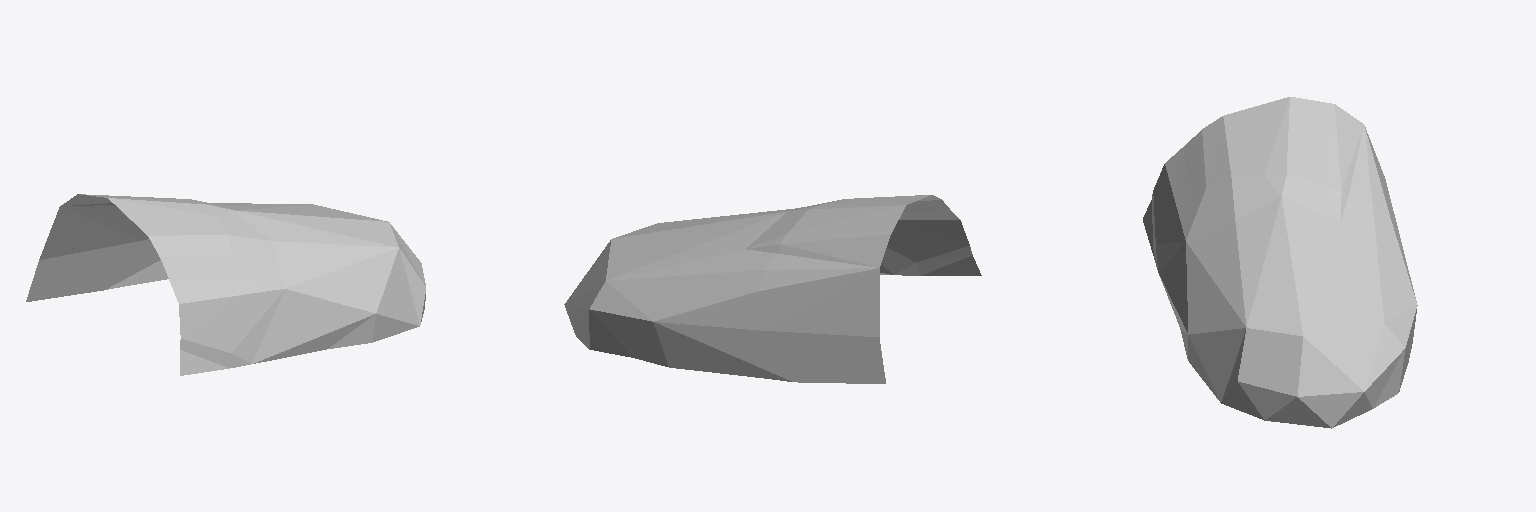
Rendered from HAND_new_43.obj.
3 views of the same model, side by side, from view 1: azimuth 30°, elevation 25°; view 2: azimuth 150°, elevation 25°; view 3: azimuth 270°, elevation 25° (orthographic).
Bounding box in the file's own units: 14.74 × 7.23 × 10.07.